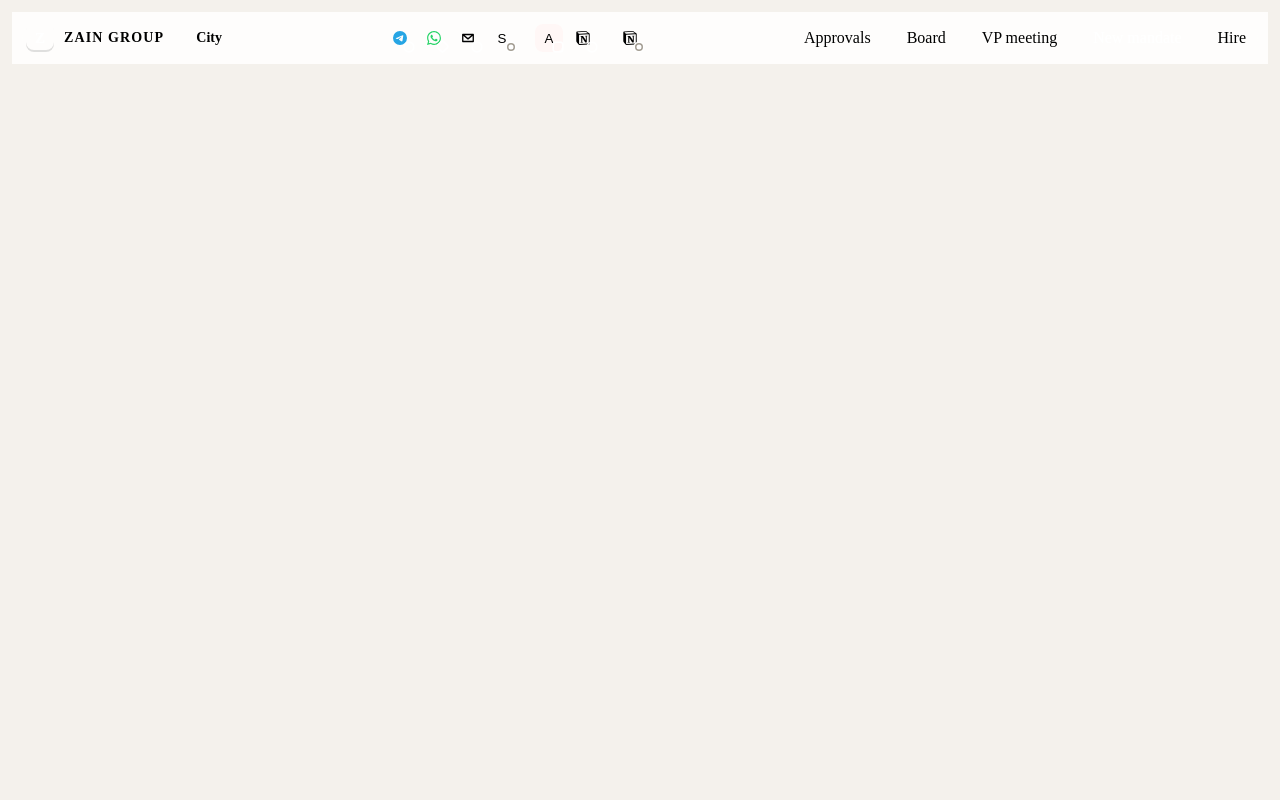
Connections in the HUD › closes on Escape and returns focus to the pill
Step 1. Click the button named "Adspirer: Error" → (549, 38), box left=535, top=24, right=563, bottom=52
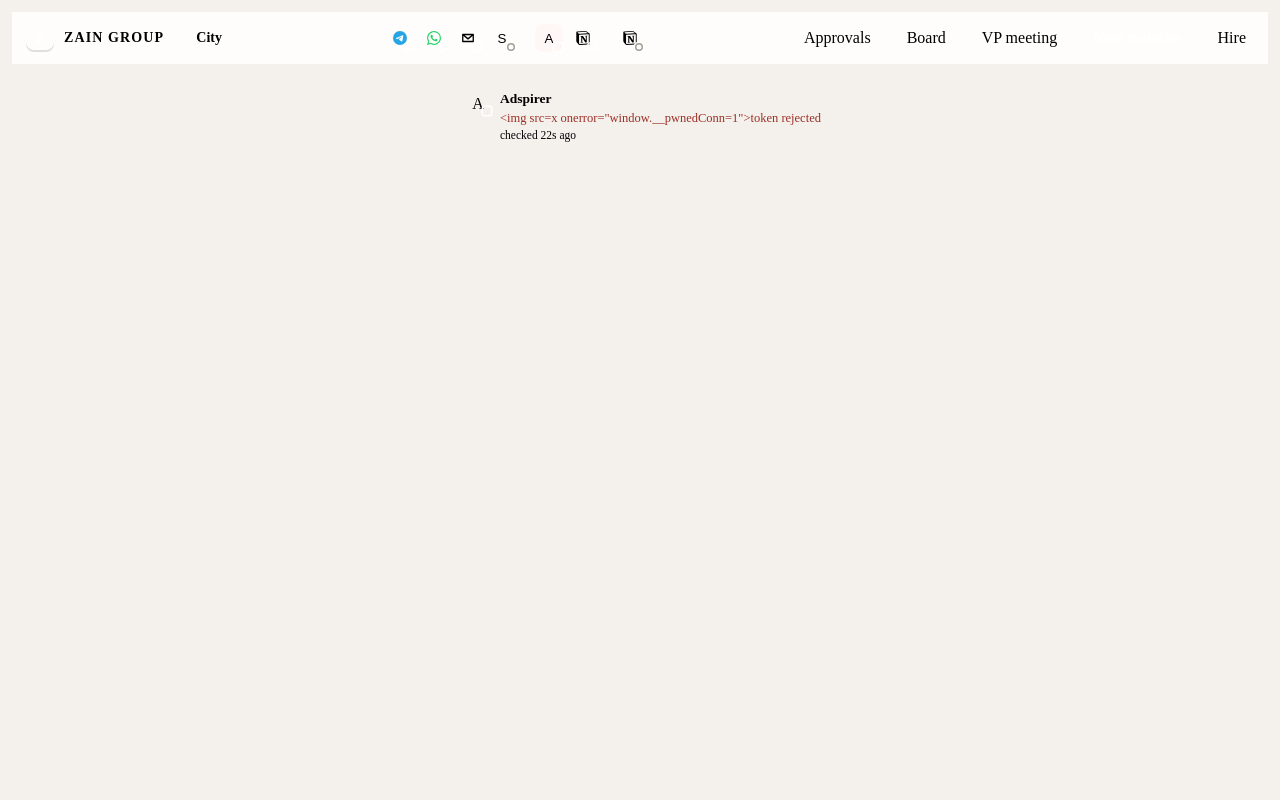
Step 2. Press Escape
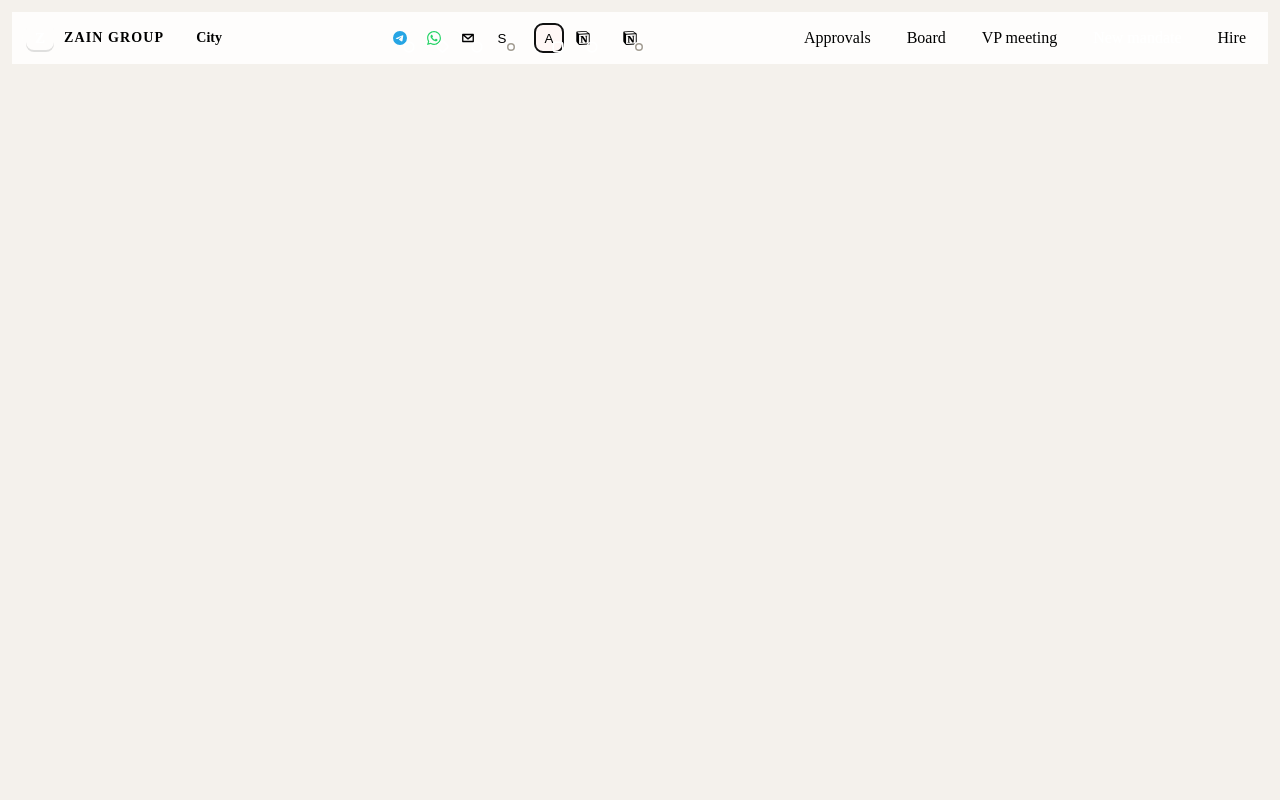
Expected: the dialog is gone
